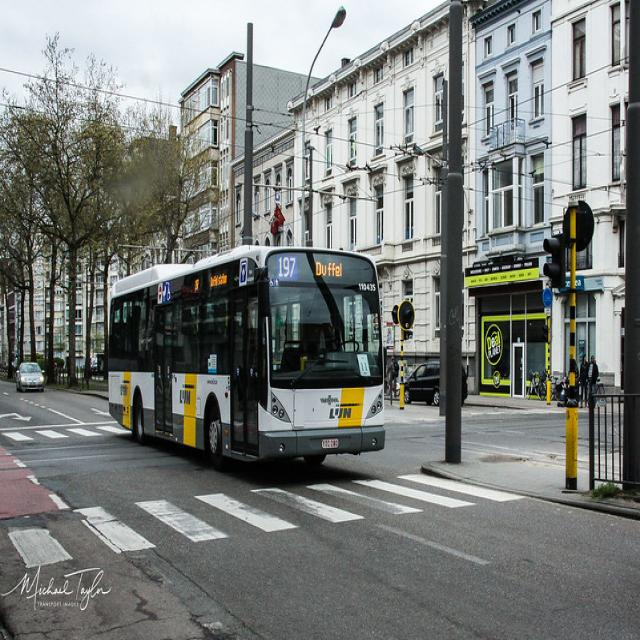bus-number: (277, 254, 297, 280)
